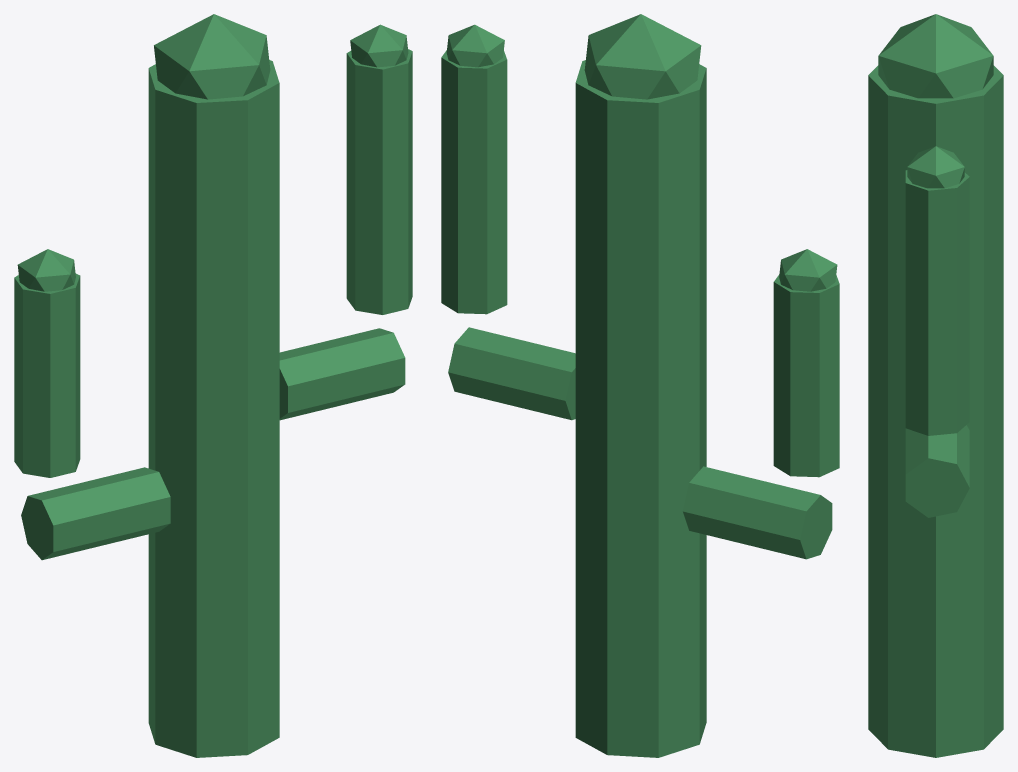
File: saguaro_cactus.fbx
The picture shows the model from 3 angles, left to right: view 1: azimuth 30°, elevation 25°; view 2: azimuth 150°, elevation 25°; view 3: azimuth 270°, elevation 25°; orthographic projection.
Visible parts, largest first — view 1: saguaro_cactus; view 2: saguaro_cactus; view 3: saguaro_cactus.
Boxes of the visible parts, <box> form: saguaro_cactus: <box>14,14,412,757</box>; saguaro_cactus: <box>441,14,839,757</box>; saguaro_cactus: <box>868,14,1003,757</box>.
Bounding box in the file's own units: 1.99 × 3.5 × 0.6.
